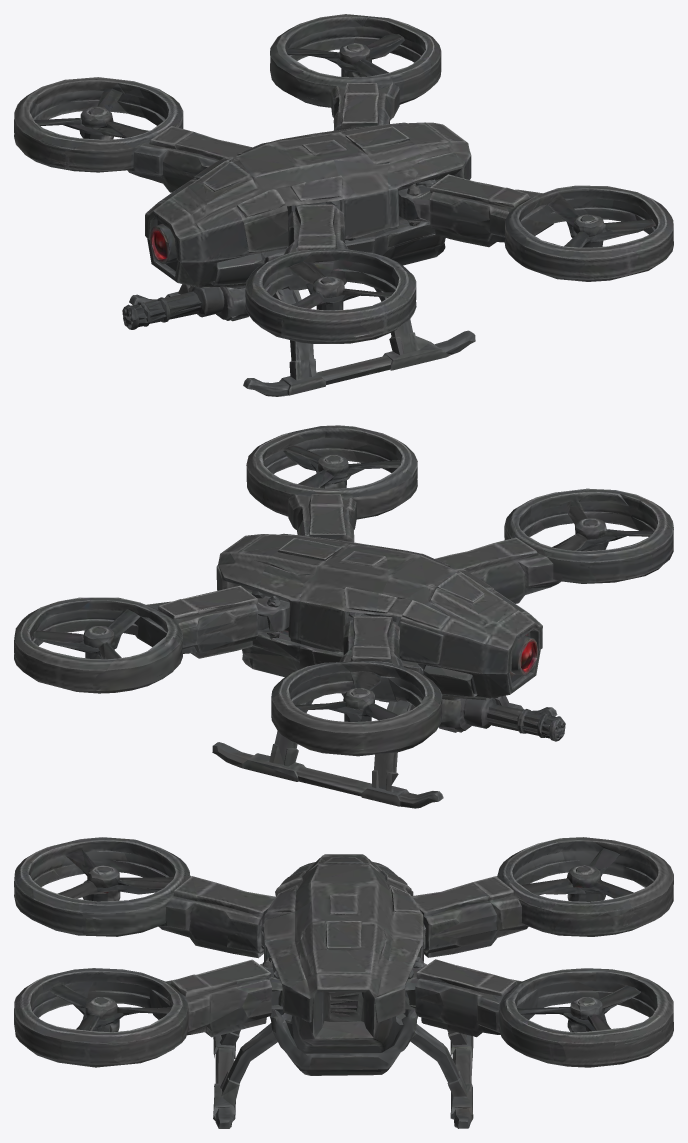
The model's file is drone.glb.
3 views of the same model, one above another, from view 1: azimuth 30°, elevation 25°; view 2: azimuth 150°, elevation 25°; view 3: azimuth 270°, elevation 25° (orthographic). The views are drawn at different scales.
Parts seen in each view (by area): view 1: output_unwrapped; view 2: output_unwrapped; view 3: output_unwrapped.
Part boxes in pixels (x1,y1,x2,y2): output_unwrapped: (14,14,673,396); output_unwrapped: (14,425,673,808); output_unwrapped: (14,837,673,1128).
Size of the model in its own units: 1.44 by 0.5988 by 1.9.
1 material, 1 textured.
